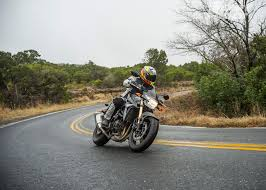motorcycle: (90, 70, 173, 150)
